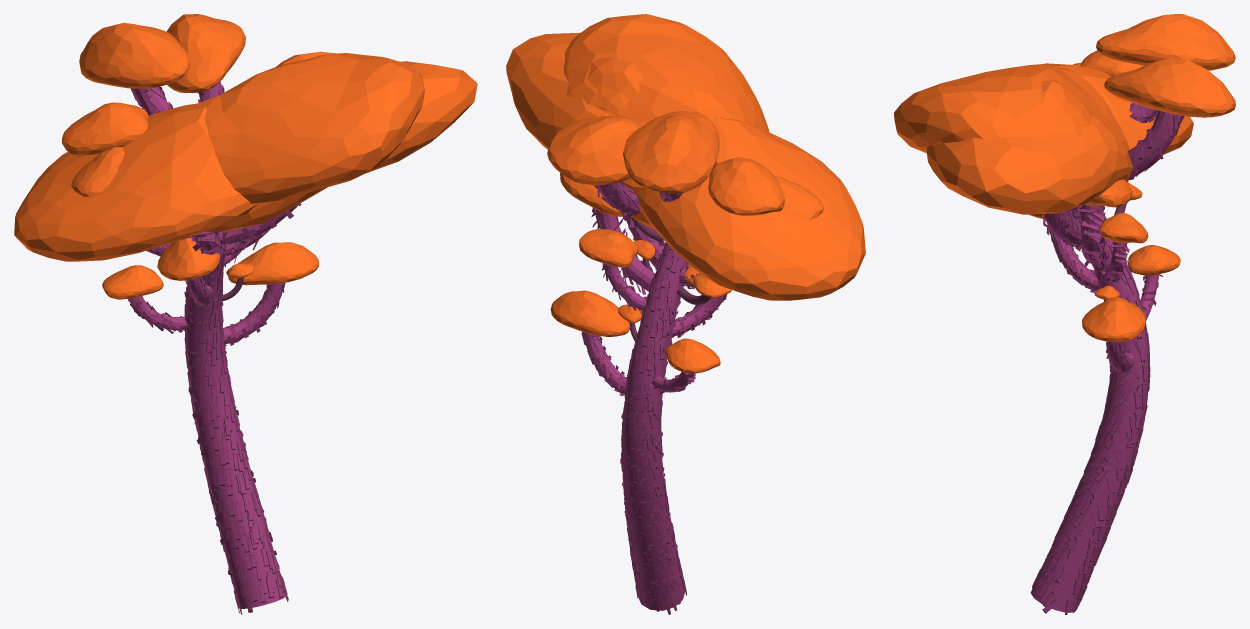
File: tree1.fbx
3 views of the same model, side by side, from view 1: azimuth 30°, elevation 25°; view 2: azimuth 150°, elevation 25°; view 3: azimuth 270°, elevation 25° (orthographic). The views are drawn at different scales.
Parts seen in each view (by area): view 1: BezierCurve.004; view 2: BezierCurve.004; view 3: BezierCurve.004.
Boxes of the visible parts, bbox=[...] form: BezierCurve.004: bbox=[14, 14, 477, 614]; BezierCurve.004: bbox=[506, 14, 865, 614]; BezierCurve.004: bbox=[894, 14, 1235, 614].
Size of the model in its own units: 925 by 1245 by 685.
